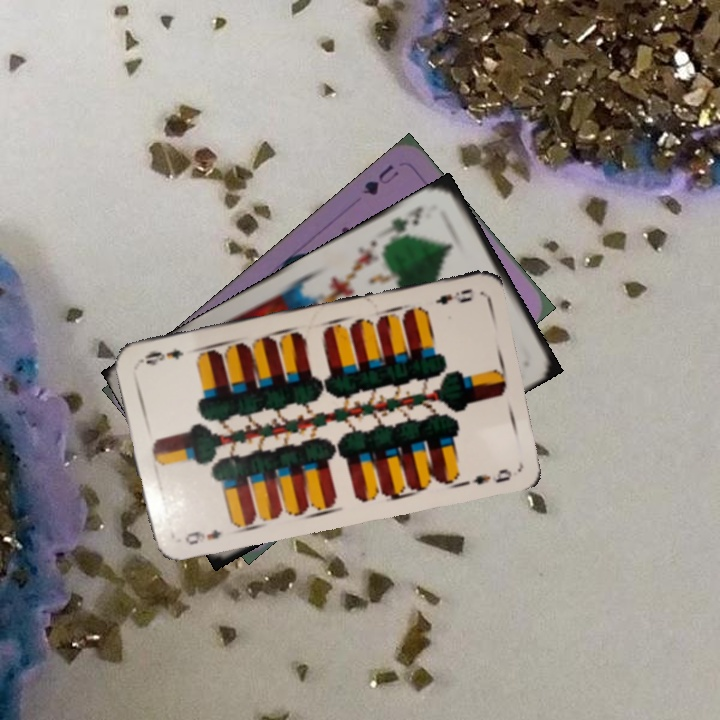E9: (181, 525, 224, 548), (431, 285, 475, 307)
GK: (383, 202, 427, 241)
GU: (359, 160, 402, 198)
